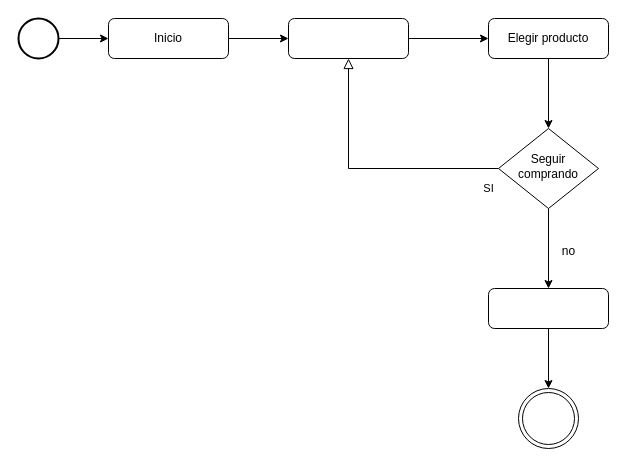
The diagram is 626 pixels wide and 466 high, and some of its shapes have lost their labels. The centre of each missing label's shape, as x and y in pixels:
"Elegir grupo producto" goes at (348,38).
"Imprimir ticket" goes at (548,308).
